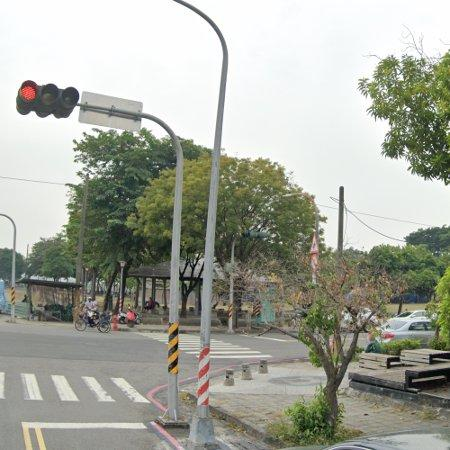crosswalks: (0, 372, 154, 404)
